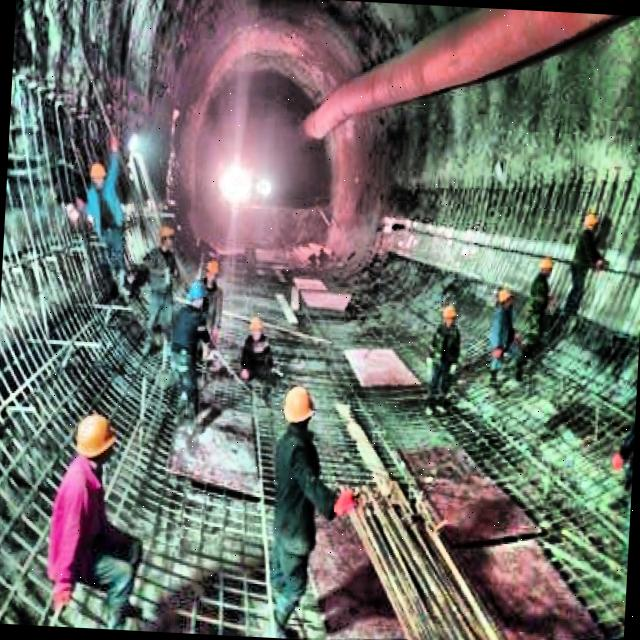helmet: (72, 410, 116, 470), (282, 381, 316, 434), (88, 158, 110, 191), (246, 310, 265, 346), (160, 222, 178, 258), (188, 283, 208, 314), (536, 252, 556, 282), (440, 302, 460, 332), (203, 255, 220, 290), (580, 207, 600, 236), (498, 286, 516, 312)
